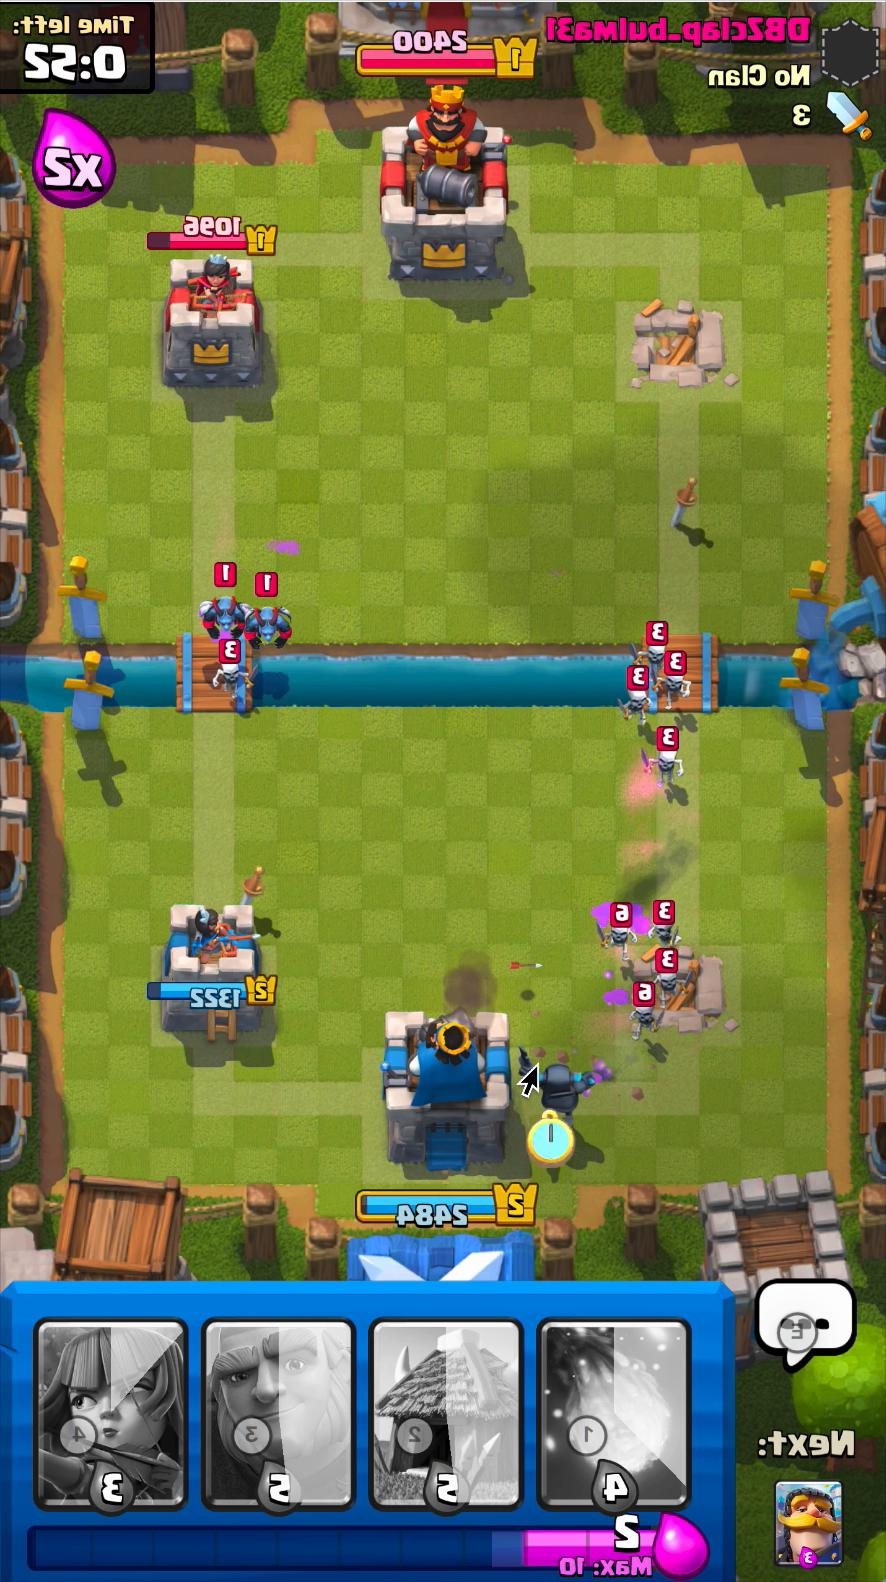gargouille: (194, 590, 258, 644), (244, 602, 295, 651)
mini_PEKKA: (513, 1054, 596, 1129)
squelette: (213, 657, 259, 700), (628, 637, 670, 682), (650, 671, 692, 713), (642, 748, 683, 791), (626, 993, 660, 1044), (653, 962, 691, 1006), (596, 924, 641, 959), (615, 690, 657, 727), (650, 919, 676, 956)
